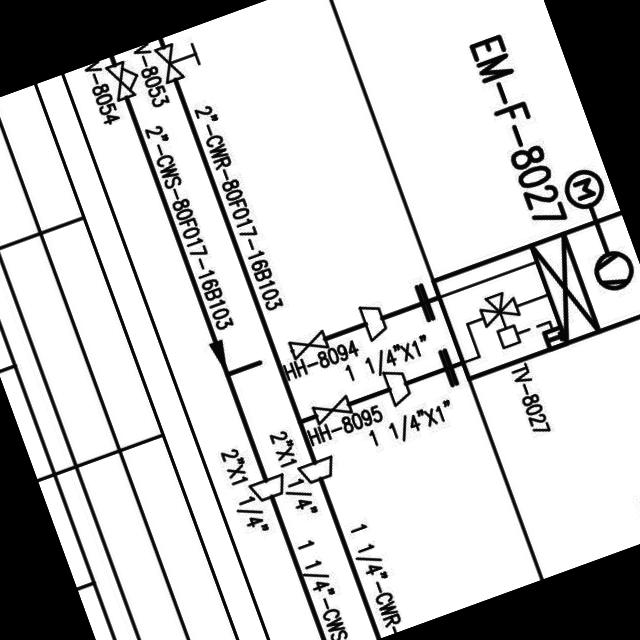3W: (473, 284, 525, 330)
GV: (303, 386, 359, 428), (284, 322, 334, 362)
HV: (150, 31, 208, 88)
M: (558, 162, 612, 215)
SP: (246, 467, 295, 508), (355, 294, 393, 344), (294, 449, 344, 486), (378, 364, 416, 408)
